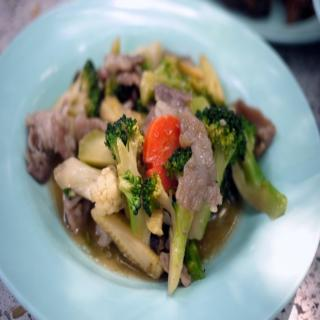Broccoli: (140, 148, 196, 296), (196, 103, 245, 242), (104, 115, 152, 245), (232, 120, 288, 220), (69, 58, 97, 119), (117, 168, 142, 217)
Salad: (16, 27, 288, 295)
